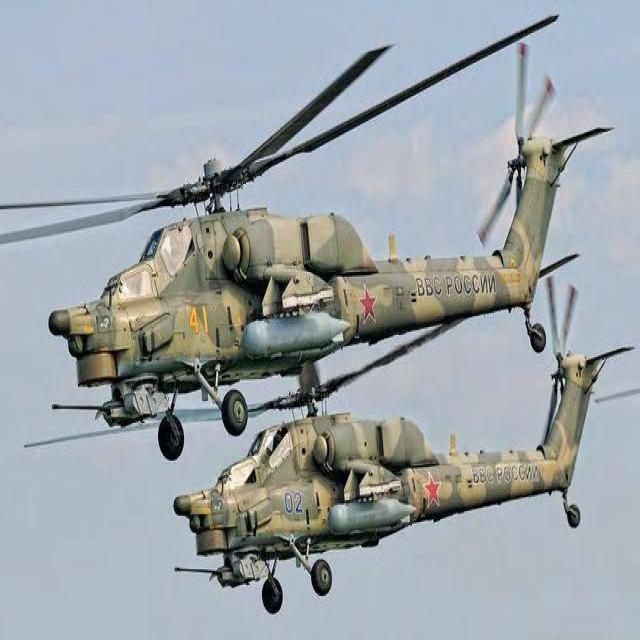MIL_HELO: (11, 11, 617, 466), (18, 343, 631, 618)
